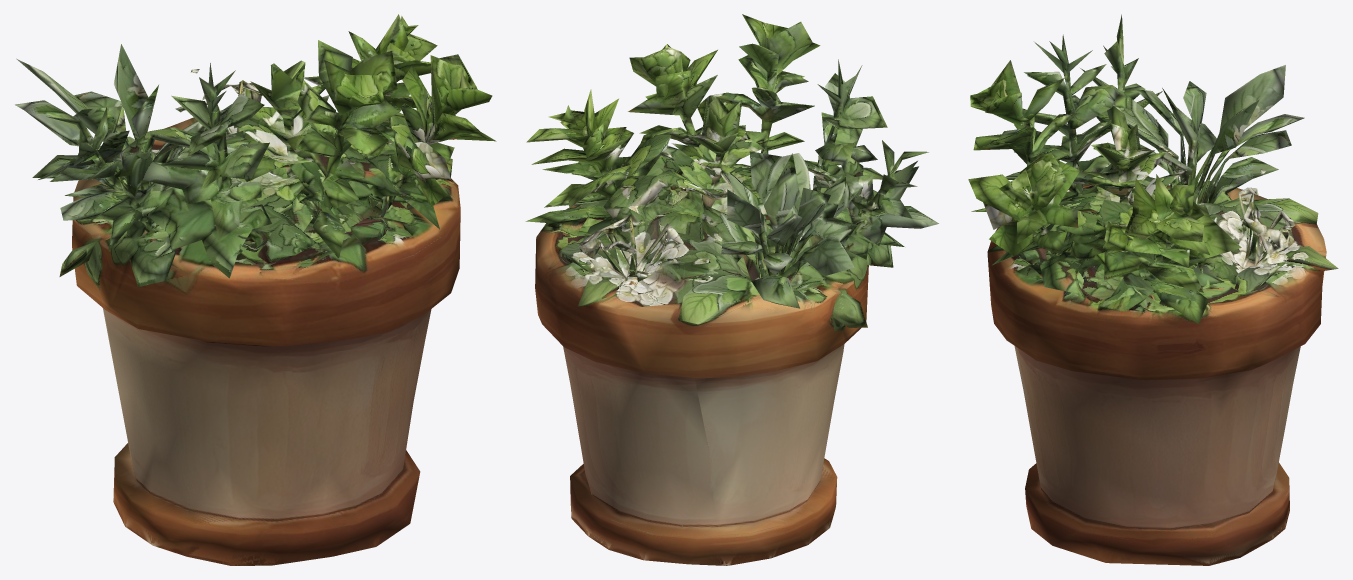
Rendered from SM_Env_HerbPot.fbx.
3 renders of one model, left to right at view 1: azimuth 30°, elevation 25°; view 2: azimuth 150°, elevation 25°; view 3: azimuth 270°, elevation 25°, orthographic. The views are drawn at different scales.
Visible parts, largest first — view 1: SM_Env_HerbPot; view 2: SM_Env_HerbPot; view 3: SM_Env_HerbPot.
Part boxes in pixels (x1=…): SM_Env_HerbPot: x1=15, y1=14, x2=496, y2=565; SM_Env_HerbPot: x1=525, y1=14, x2=938, y2=565; SM_Env_HerbPot: x1=968, y1=14, x2=1338, y2=565.
Bounding box in the file's own units: 0.8676 × 1 × 0.7585.
